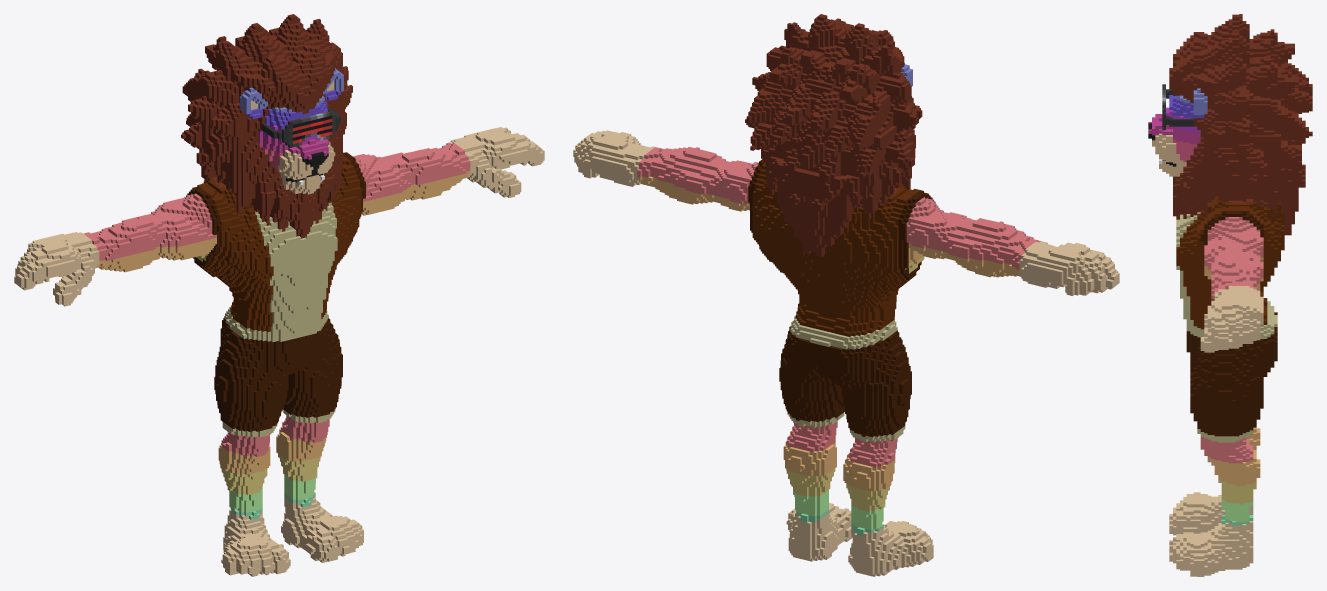
File: 230-BiTyEYMJ.glb
3 views of the same model, side by side, from view 1: azimuth 30°, elevation 25°; view 2: azimuth 150°, elevation 25°; view 3: azimuth 270°, elevation 25° (orthographic). The views are drawn at different scales.
Parts seen in each view (by area): view 1: standard; view 2: standard; view 3: standard.
Boxes of the visible parts, x1,y1,x2,y2 form: standard: (14, 14, 544, 576); standard: (573, 14, 1119, 576); standard: (1148, 14, 1312, 576).
Size of the model in its own units: 17.2 by 16.5 by 4.7.
5 materials, 5 textured.
